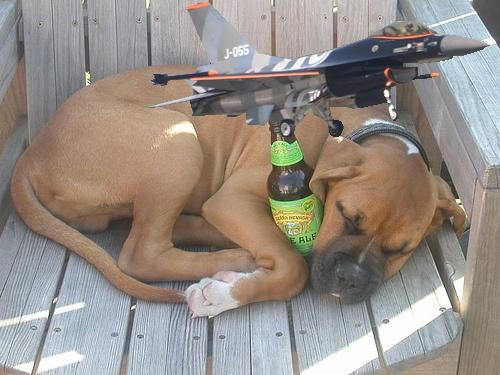tampered: (143, 2, 490, 137)
